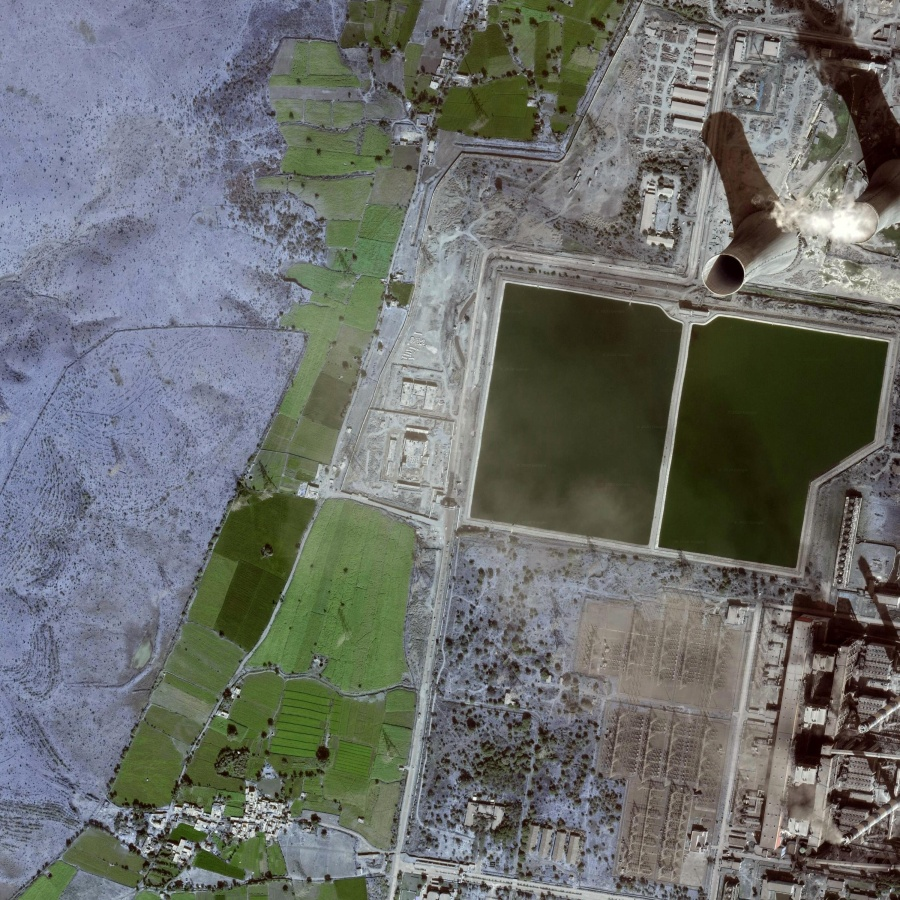PowerPlant: (457, 278, 896, 586)
